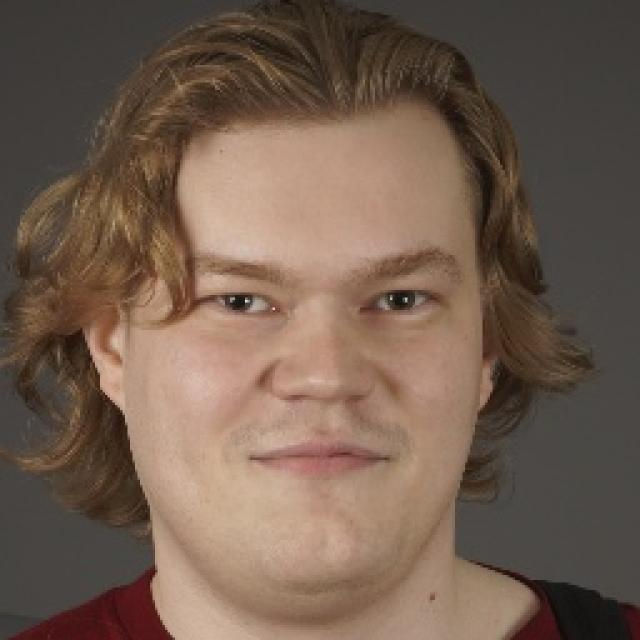earlobe: (75, 269, 127, 411)
